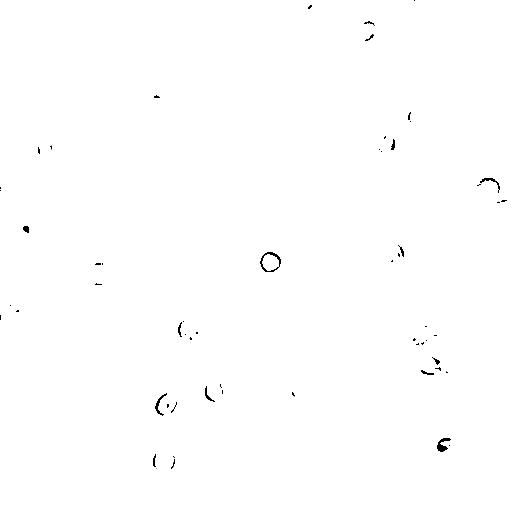micro-algae: (310, 343, 344, 381), (2, 304, 20, 363), (11, 212, 41, 245), (75, 297, 111, 324), (59, 35, 93, 61), (127, 312, 158, 340), (473, 176, 501, 206), (86, 262, 116, 287), (144, 138, 167, 169), (380, 240, 405, 267), (154, 391, 179, 418), (433, 359, 460, 383), (152, 448, 177, 473), (406, 103, 430, 128), (177, 318, 200, 342), (427, 331, 450, 355), (415, 354, 440, 376), (259, 251, 282, 274), (356, 20, 378, 43), (411, 324, 433, 347), (290, 380, 310, 405), (490, 198, 512, 220), (205, 379, 224, 404), (6, 288, 24, 314), (378, 134, 398, 157), (37, 137, 54, 162), (138, 266, 158, 287), (436, 437, 454, 455), (297, 0, 315, 14), (143, 0, 164, 6), (404, 0, 422, 6)
